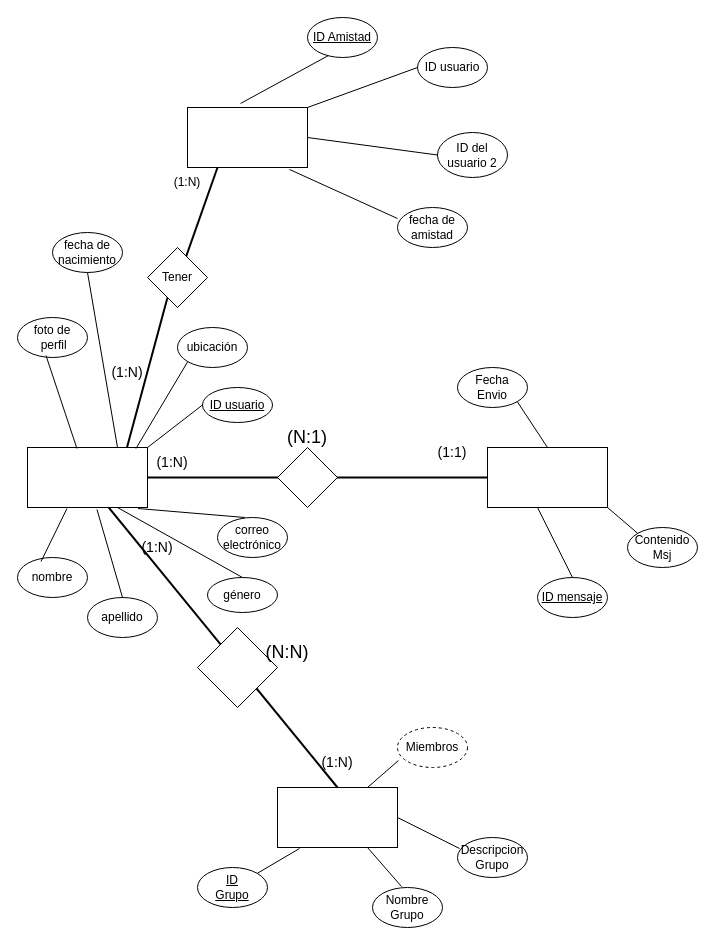
This 715x945 diagram has some shape labels left out. Each missing label, with the box of its shape:
Amistad: (186, 106, 308, 168)
Grupo: (276, 786, 398, 848)
Mensaje: (486, 446, 608, 508)
Publica: (276, 446, 338, 508)
Unirse: (196, 626, 278, 708)
Usuario: (26, 446, 148, 508)
